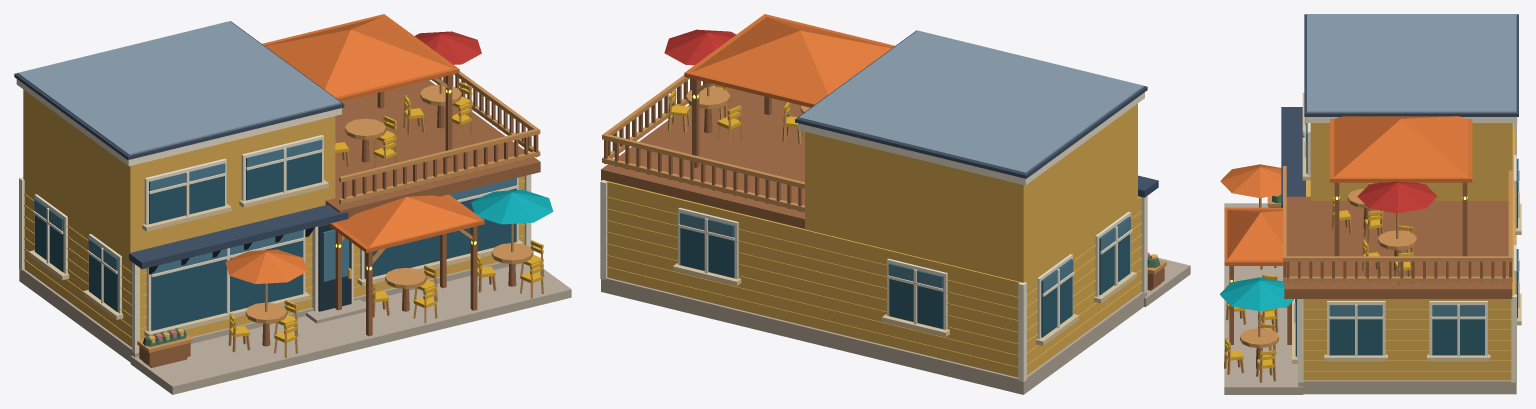
The model's file is sunset_terrace.glb.
3 views of the same model, side by side, from view 1: azimuth 30°, elevation 25°; view 2: azimuth 150°, elevation 25°; view 3: azimuth 270°, elevation 25° (orthographic). The views are drawn at different scales.
Parts seen in each view (by area): view 1: sunset_terrace; view 2: sunset_terrace; view 3: sunset_terrace.
Part boxes in pixels (bbox=[...]): sunset_terrace: bbox=[14, 14, 571, 394]; sunset_terrace: bbox=[600, 14, 1190, 394]; sunset_terrace: bbox=[1219, 14, 1521, 394].
Size of the model in its own units: 12.42 by 6.75 by 8.5.
